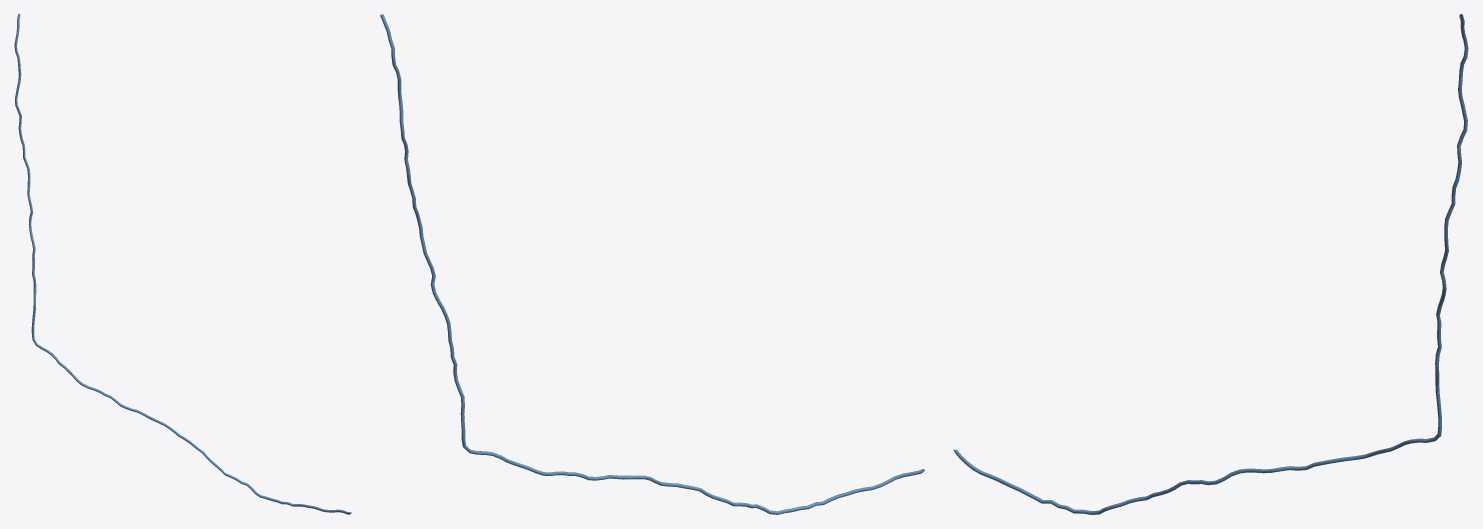
Rendered from sweep174.fbx.
3 renders of one model, left to right at view 1: azimuth 90°, elevation 25°; view 2: azimuth 150°, elevation 25°; view 3: azimuth 270°, elevation 25°, orthographic. The views are drawn at different scales.
Parts seen in each view (by area): view 1: sweep174; view 2: sweep174; view 3: sweep174.
Part boxes in pixels (box(x1,y1,x2,y2)): sweep174: box(14, 14, 351, 514); sweep174: box(380, 14, 924, 514); sweep174: box(953, 14, 1468, 514).
Bounding box in the file's own units: 1.94 × 3.4 × 2.55.
